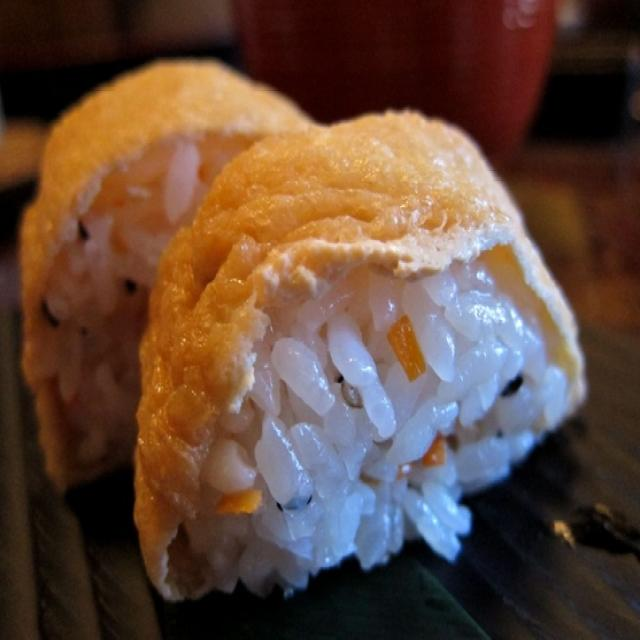寿司卷物: (15, 29, 605, 616)
